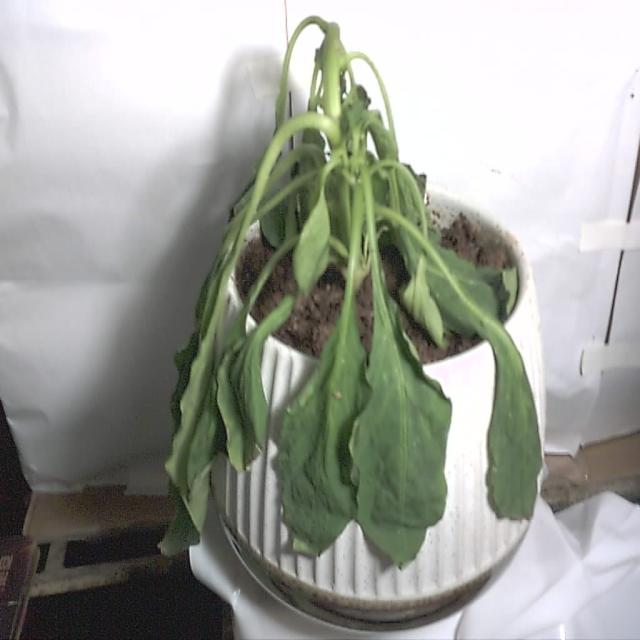Leaf: (350, 302, 454, 572), (276, 318, 376, 560), (159, 246, 235, 561)
